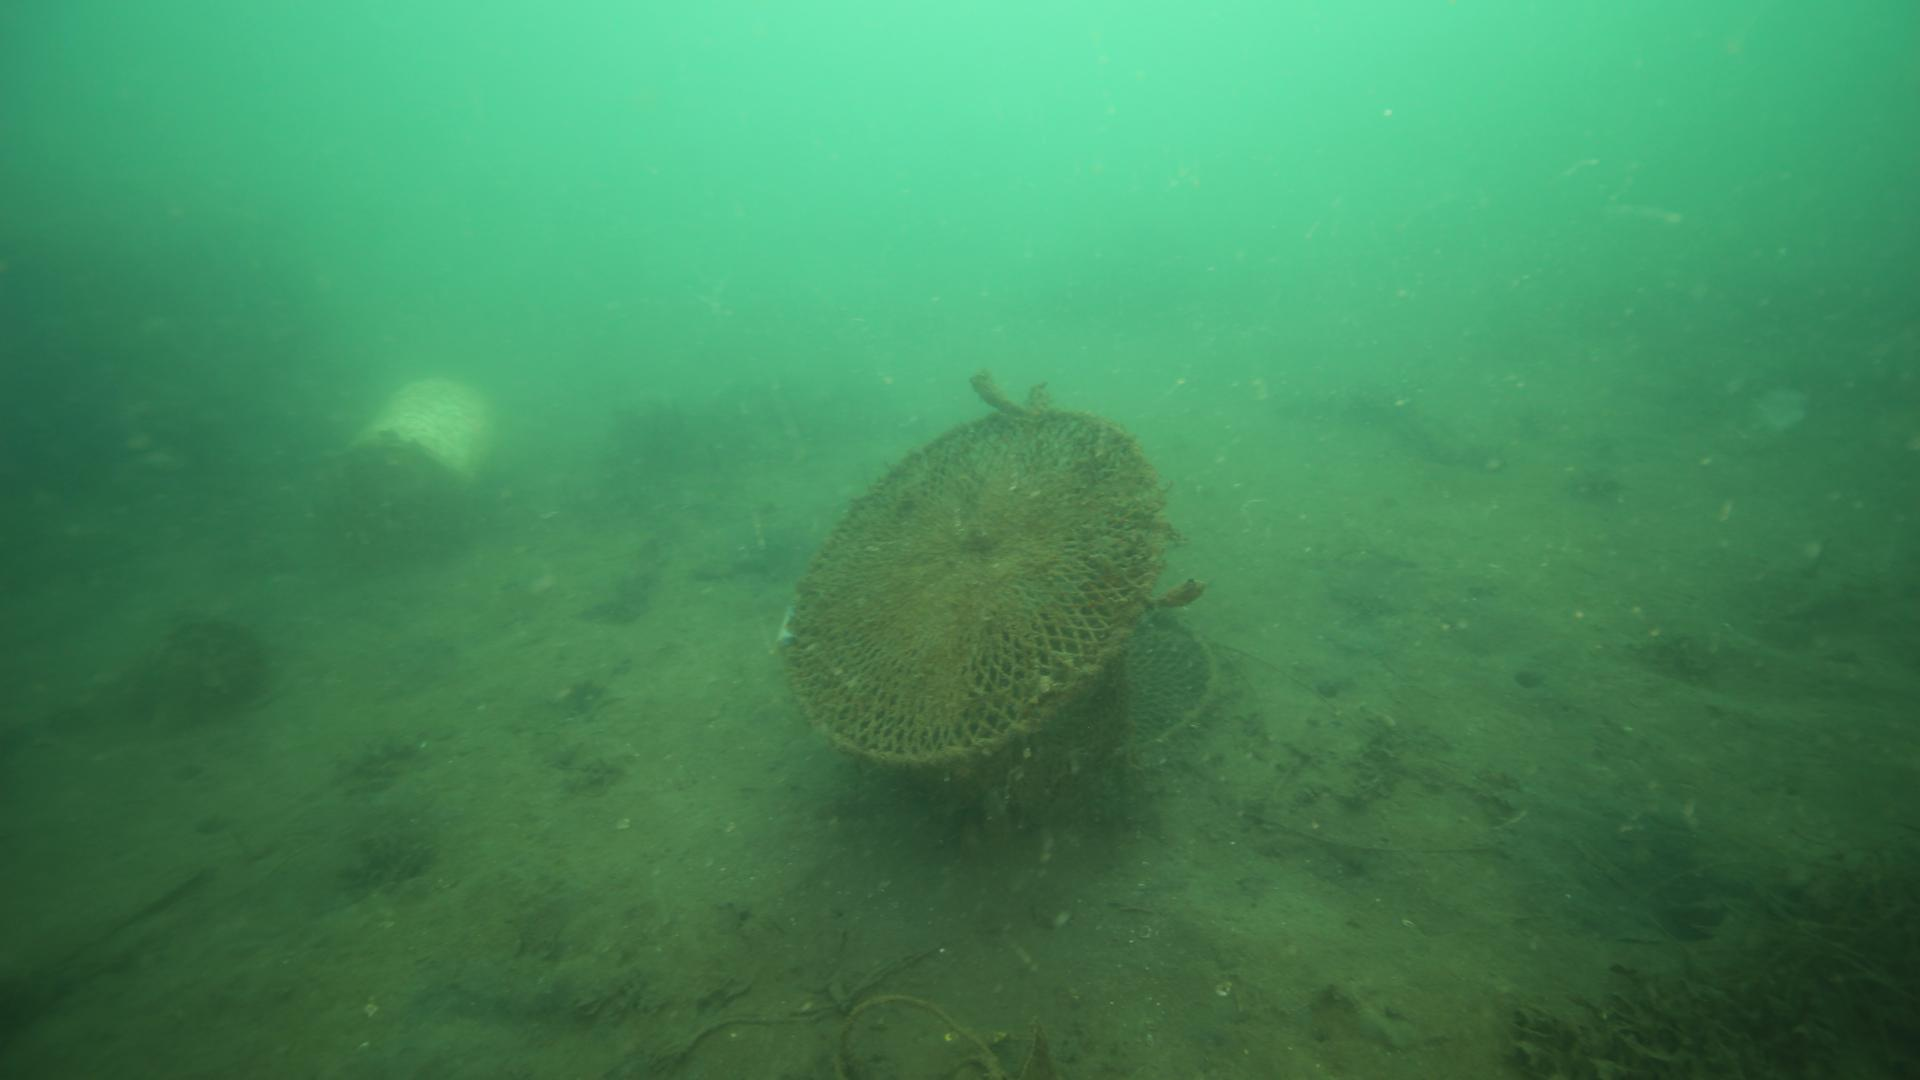circular fish trap: (777, 402, 1176, 783)
